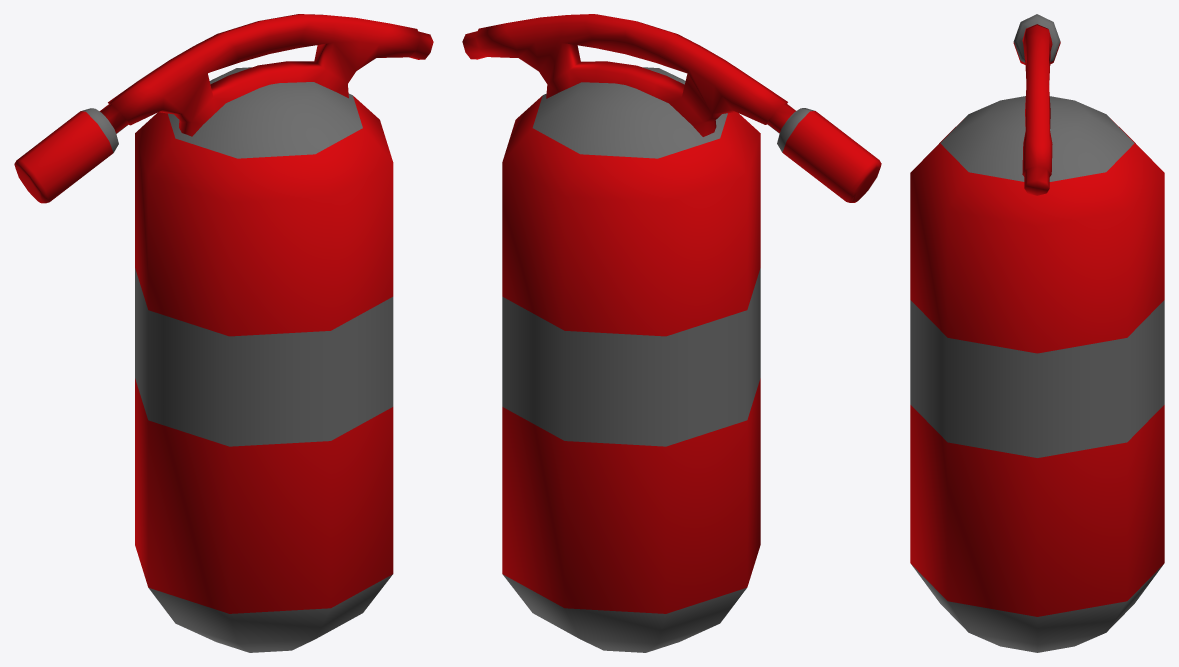
The model's file is Strct_Lvl1_ZoneA_FireExtinguisher.fbx.
3 renders of one model, left to right at view 1: azimuth 30°, elevation 25°; view 2: azimuth 150°, elevation 25°; view 3: azimuth 270°, elevation 25°, orthographic. The views are drawn at different scales.
Visible parts, largest first — view 1: Mesh; view 2: Mesh; view 3: Mesh.
Boxes of the visible parts, bbox=[...] form: Mesh: bbox=[14, 14, 433, 652]; Mesh: bbox=[462, 14, 881, 652]; Mesh: bbox=[910, 14, 1164, 652].
Size of the model in its own units: 58.62 by 84.49 by 33.05.
